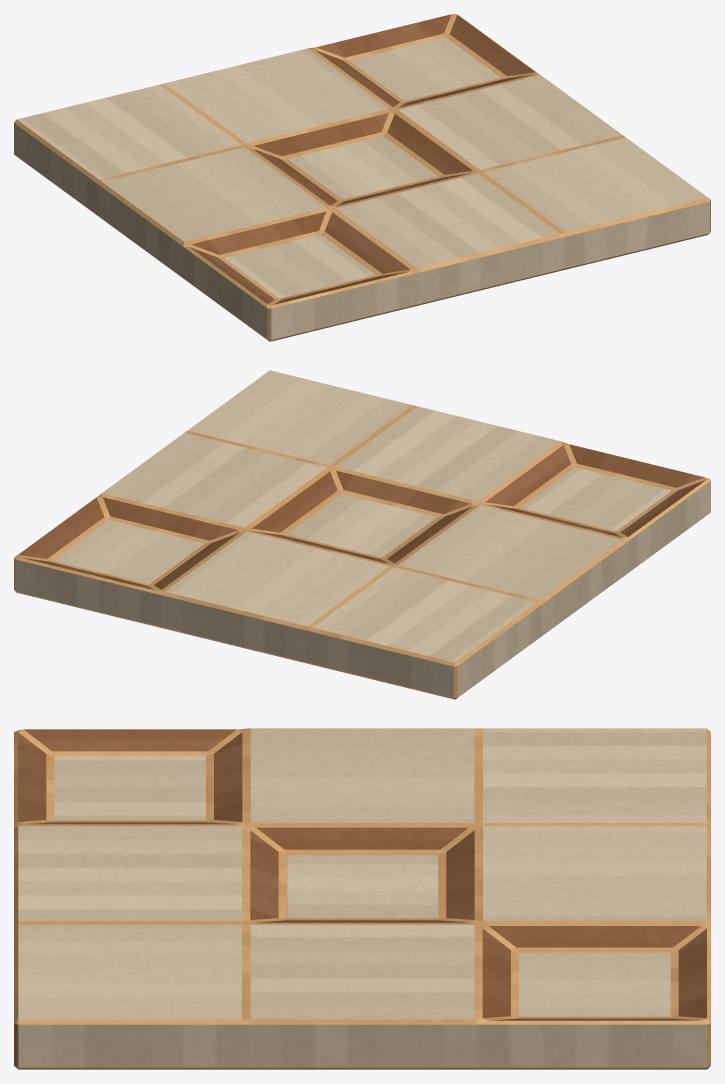
Rendered from sm_terrain_tile_cracked.glb.
3 views of the same model, one above another, from view 1: azimuth 30°, elevation 25°; view 2: azimuth 150°, elevation 25°; view 3: azimuth 270°, elevation 25° (orthographic). The views are drawn at different scales.
Parts seen in each view (by area): view 1: sm_terrain_tile_cracked; view 2: sm_terrain_tile_cracked; view 3: sm_terrain_tile_cracked.
Boxes of the visible parts, x1,y1,x2,y2 form: sm_terrain_tile_cracked: [14, 14, 710, 341]; sm_terrain_tile_cracked: [14, 370, 710, 699]; sm_terrain_tile_cracked: [14, 728, 710, 1069].
Size of the model in its own units: 1 by 0.08 by 1.
1 material, 1 textured.
